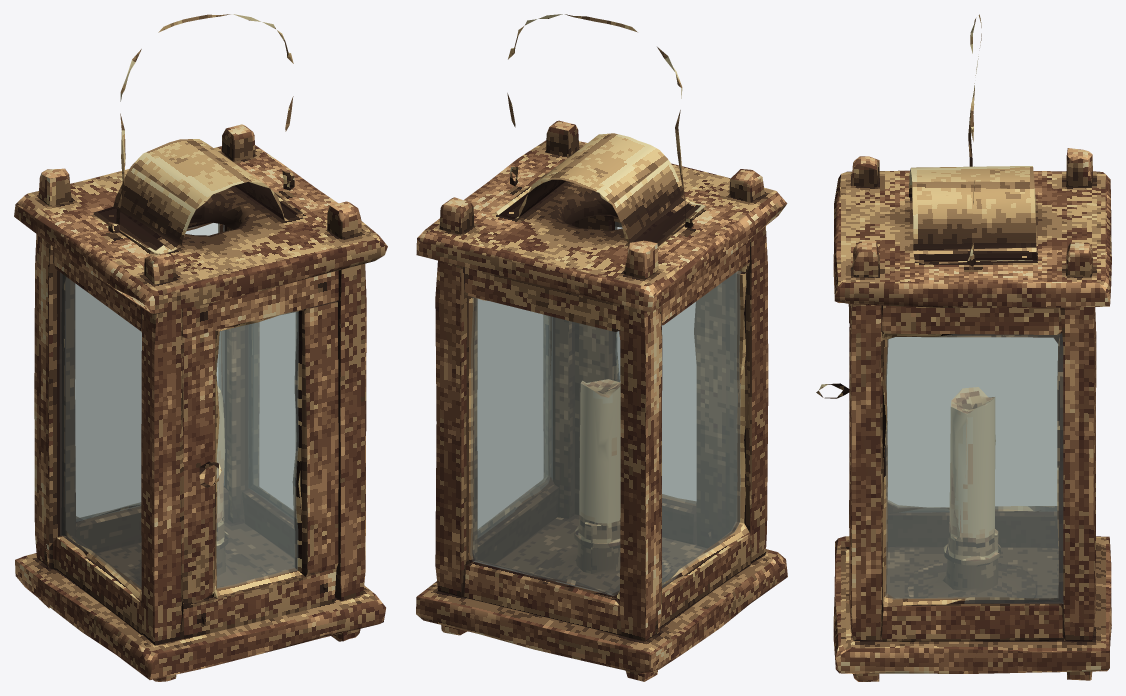
File: wooden_lantern_01.glb
3 renders of one model, left to right at view 1: azimuth 30°, elevation 25°; view 2: azimuth 150°, elevation 25°; view 3: azimuth 270°, elevation 25°, orthographic.
Visible parts, largest first — view 1: body, glass; view 2: body, glass; view 3: body, glass.
Part boxes in pixels (<box>): body: <box>14,14,387,681</box>; glass: <box>60,223,298,589</box>; body: <box>416,14,787,681</box>; glass: <box>470,222,740,595</box>; body: <box>816,14,1111,681</box>; glass: <box>885,333,1063,603</box>.
Size of the model in its own units: 0.2217 by 0.5301 by 0.235.
Materials: 2 (2 with a texture image).
